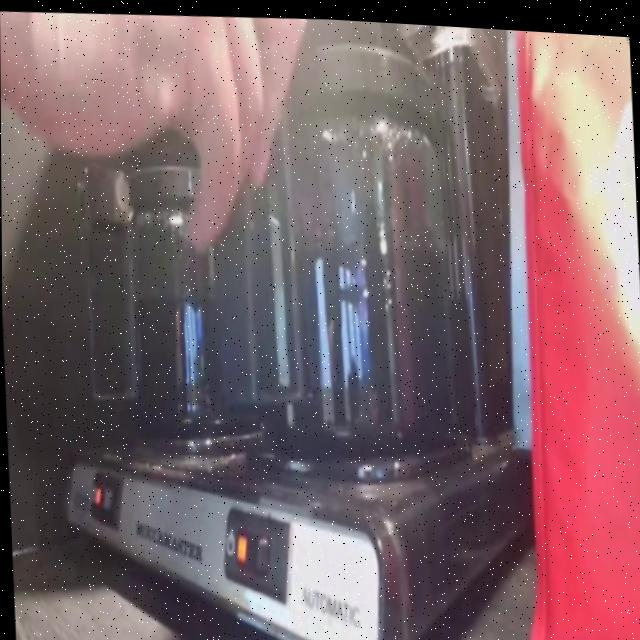coffee: (235, 32, 470, 460), (97, 142, 278, 452)
